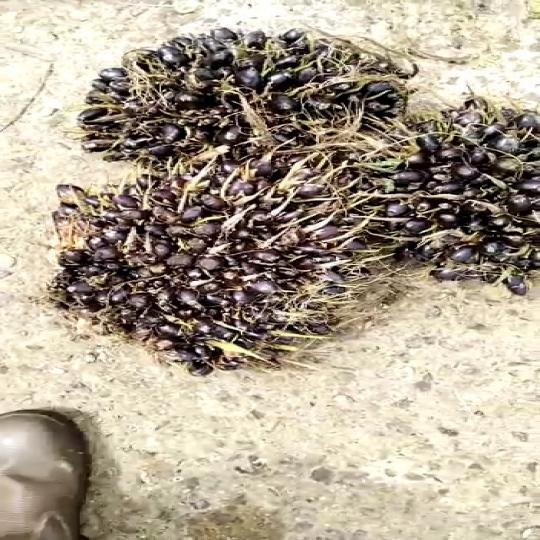mentah: (74, 164, 404, 387), (82, 28, 406, 169), (352, 96, 540, 308)
